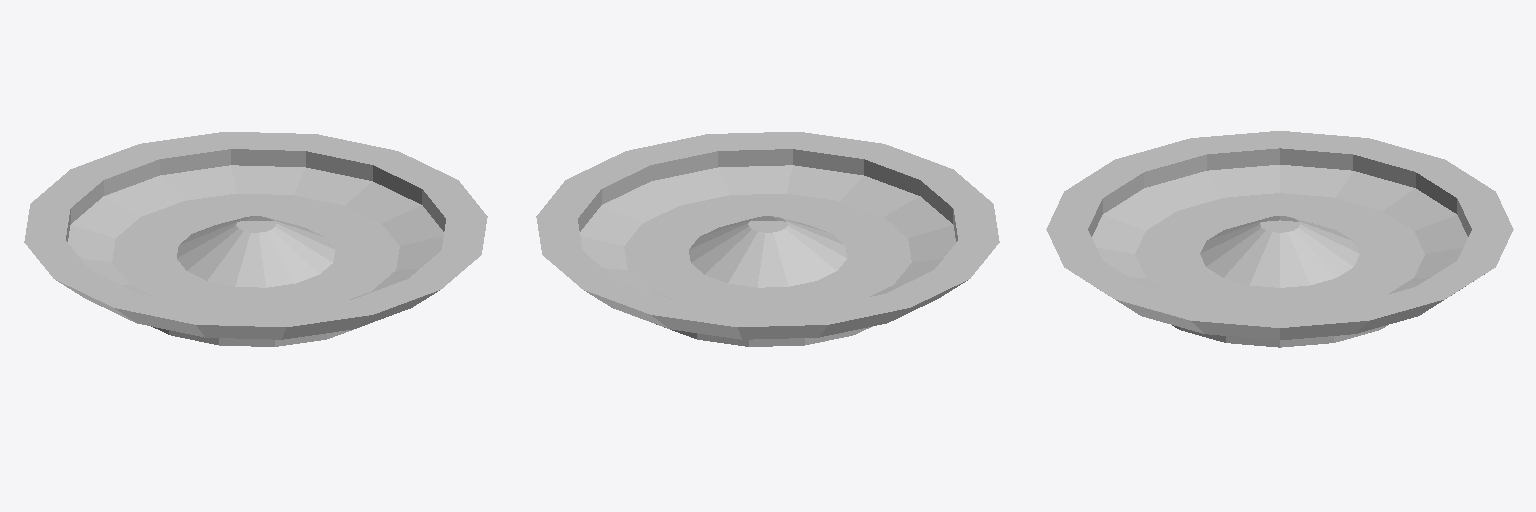
Rendered from wheel.obj.
The picture shows the model from 3 angles: view 1: azimuth 30°, elevation 25°; view 2: azimuth 150°, elevation 25°; view 3: azimuth 270°, elevation 25°; orthographic projection.
Visible parts, largest first — view 1: Cylinder; view 2: Cylinder; view 3: Cylinder.
Part boxes in pixels (bbox=[...]): Cylinder: bbox=[24, 132, 487, 346]; Cylinder: bbox=[536, 132, 999, 346]; Cylinder: bbox=[1046, 131, 1513, 347].
Bounding box in the file's own units: 3.29 × 0.4909 × 3.29.